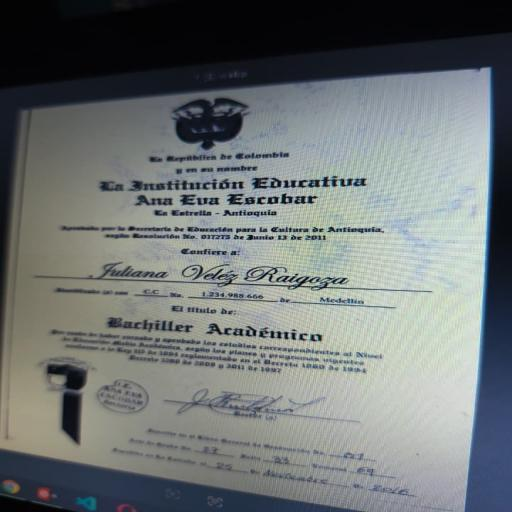bachillerato: (85, 312, 377, 352)
diploma: (9, 65, 493, 512)
escudo: (152, 96, 263, 157)
firma: (140, 371, 372, 436)
institucion: (83, 169, 393, 212)
nombre: (73, 249, 398, 301)
